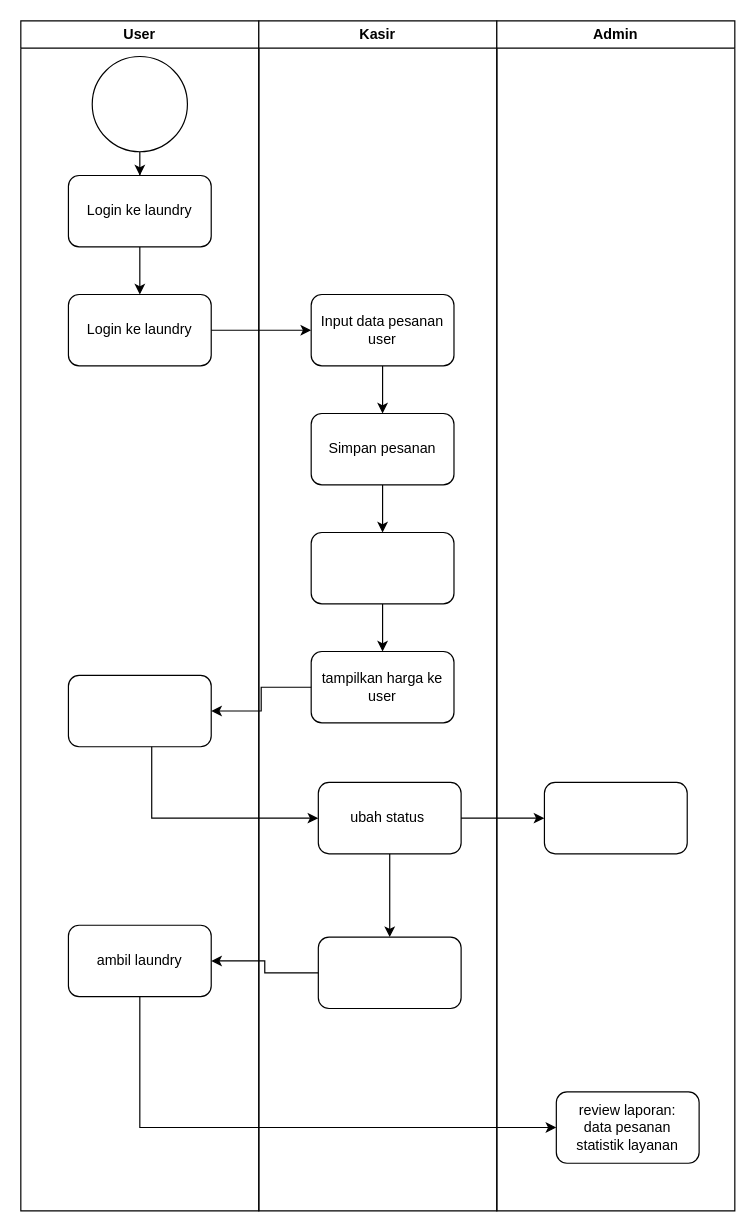
Image size: 756x1232. Some labels were removed from this diagram. The shapes that lost their labels are listed below. From the top down, each one's centre as x and y in pixels, then its label:
point 139,103: Start
point 382,567: Hitung total harga
point 139,710: konfirmasi bayar
point 615,817: proses
point 389,972: kirim proses ke laundry
